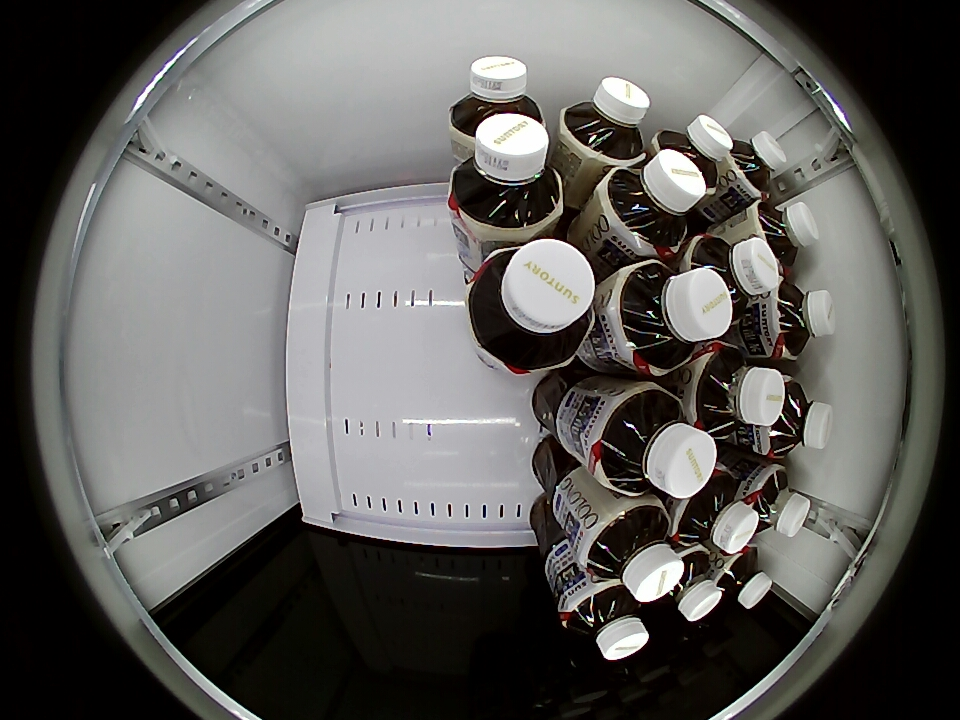wulongcha: (462, 238, 597, 372), (591, 384, 718, 499), (448, 113, 563, 239), (611, 259, 732, 376), (597, 150, 707, 257), (581, 500, 685, 602), (694, 346, 785, 438), (558, 76, 651, 165), (449, 55, 546, 140), (687, 234, 781, 317), (559, 579, 649, 661), (673, 474, 760, 555), (761, 376, 834, 458), (762, 282, 836, 360), (654, 115, 734, 187), (743, 466, 817, 537), (653, 551, 722, 621), (751, 201, 819, 272), (725, 131, 788, 198), (712, 547, 773, 609)
